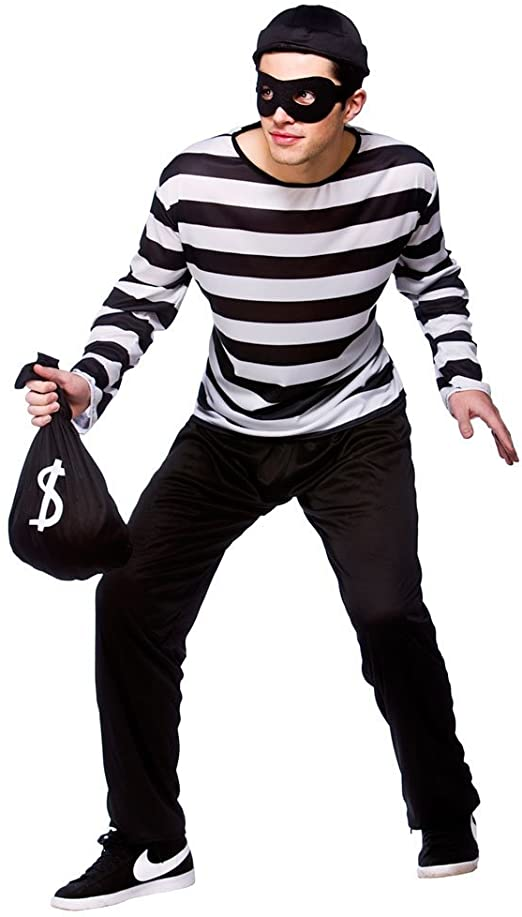thief: (114, 5, 477, 333), (234, 5, 383, 188)
